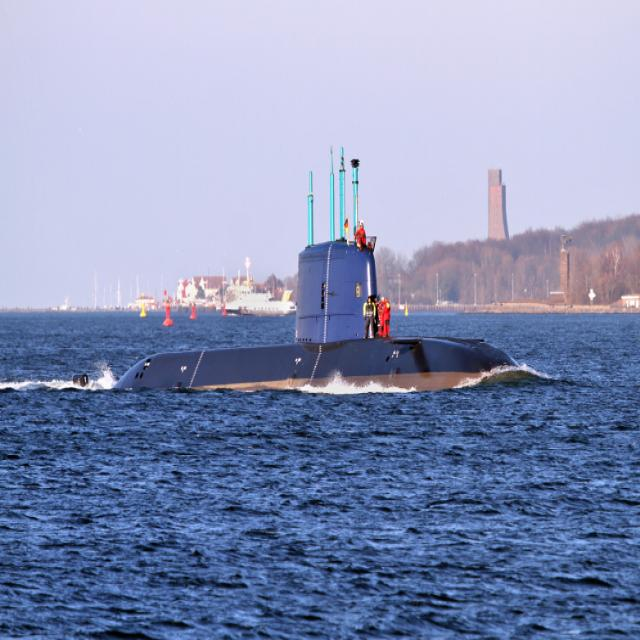submarine: (74, 141, 515, 393)
